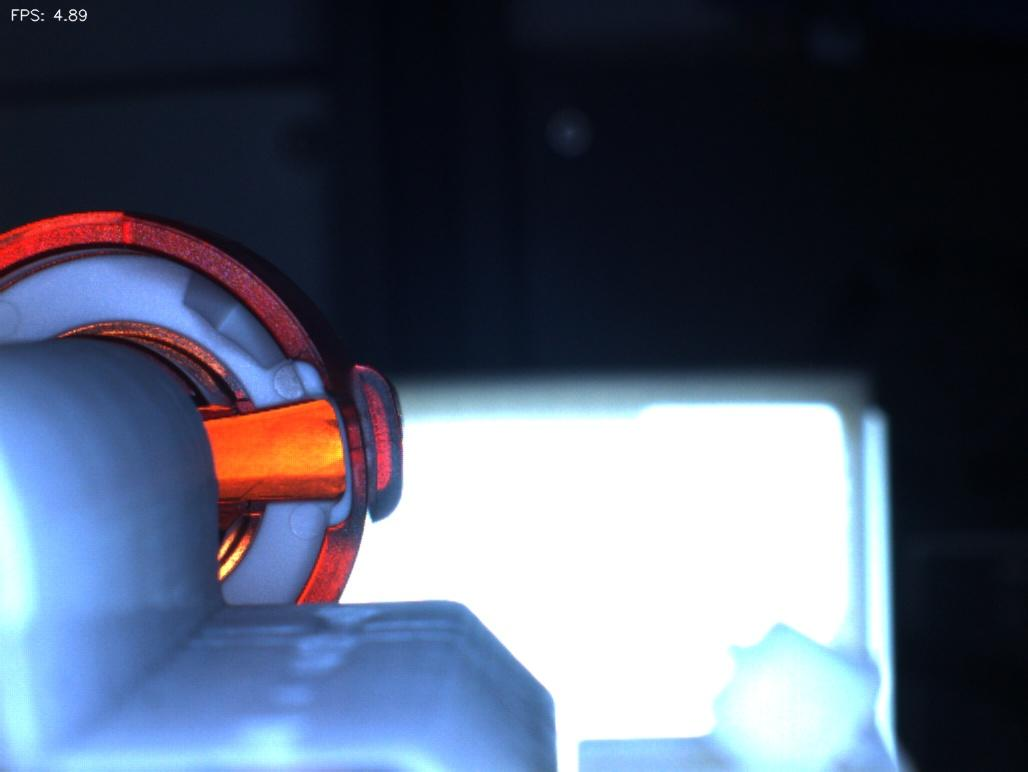Retassure: (256, 409, 349, 485)
